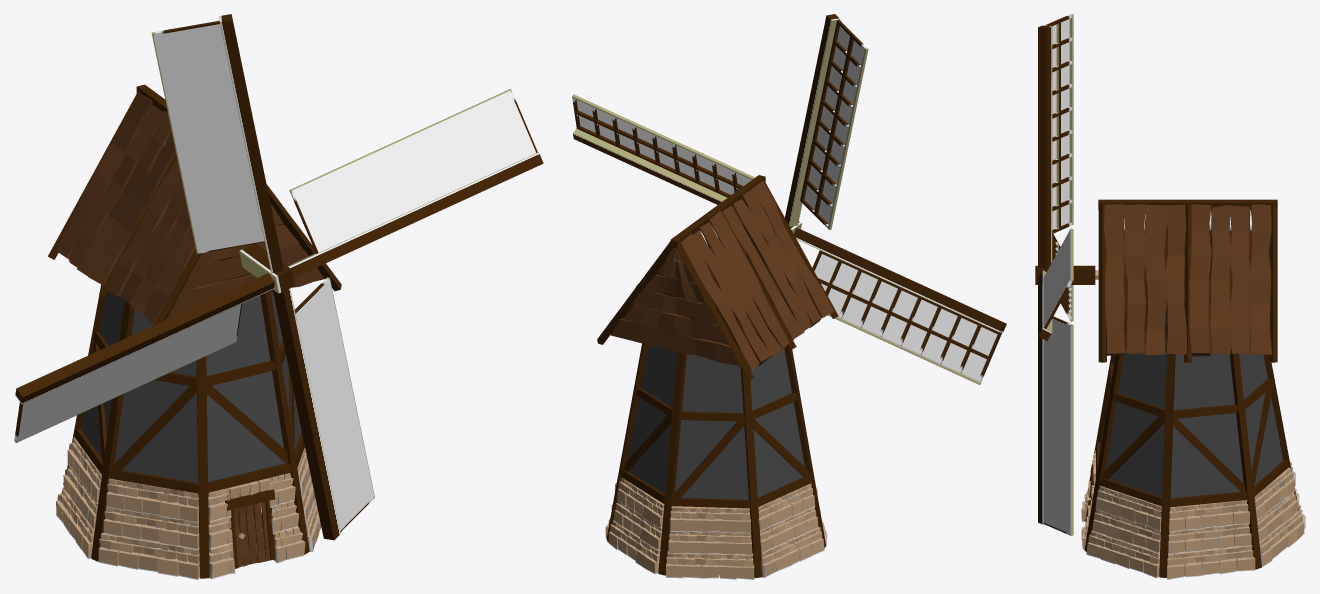
Rendered from Mill.fbx.
3 views of the same model, side by side, from view 1: azimuth 30°, elevation 25°; view 2: azimuth 150°, elevation 25°; view 3: azimuth 270°, elevation 25° (orthographic). The views are drawn at different scales.
Parts seen in each view (by area): view 1: Building.213, Mill.001; view 2: Building.213, Mill.001; view 3: Building.213, Mill.001.
Boxes of the visible parts, x1,y1,x2,y2 form: Building.213: (48,84,341,579); Mill.001: (14,14,543,540); Building.213: (597,175,838,579); Mill.001: (572,14,1006,384); Building.213: (1081,199,1305,579); Mill.001: (1035,14,1098,535).
Size of the model in its own units: 2100 by 2233 by 1129.
